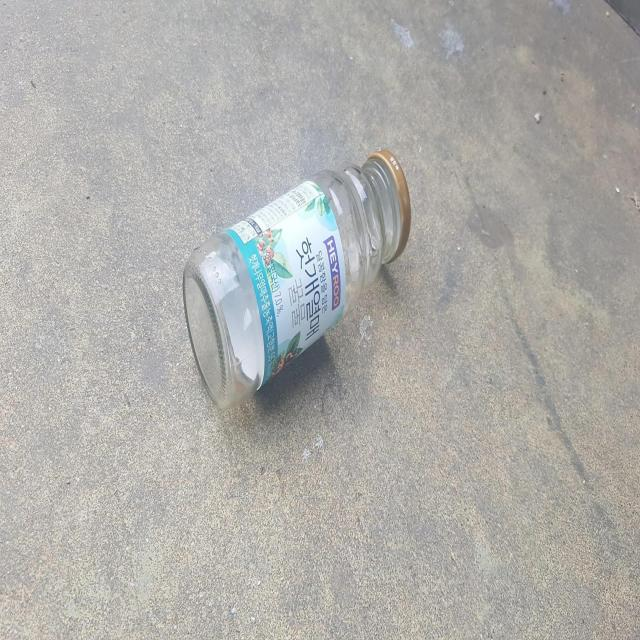glass: (181, 150, 411, 407)
